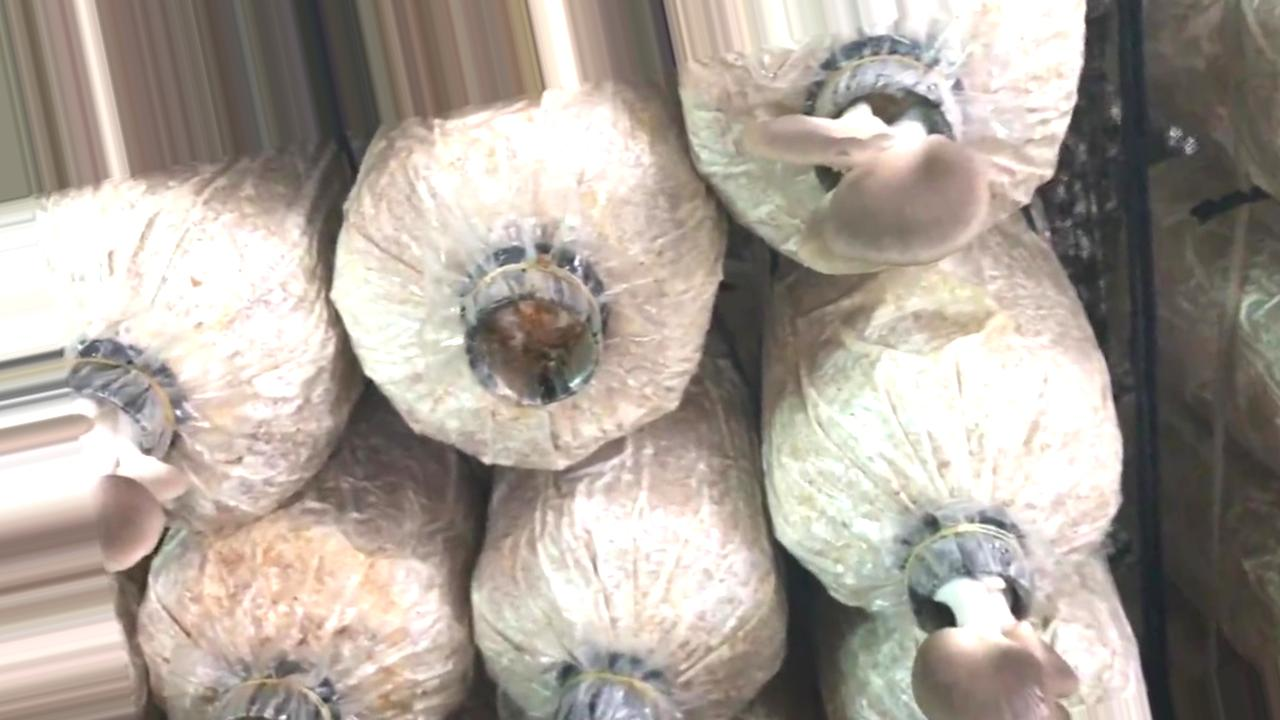nam: (739, 77, 986, 267), (912, 513, 1082, 720), (67, 339, 189, 573)
